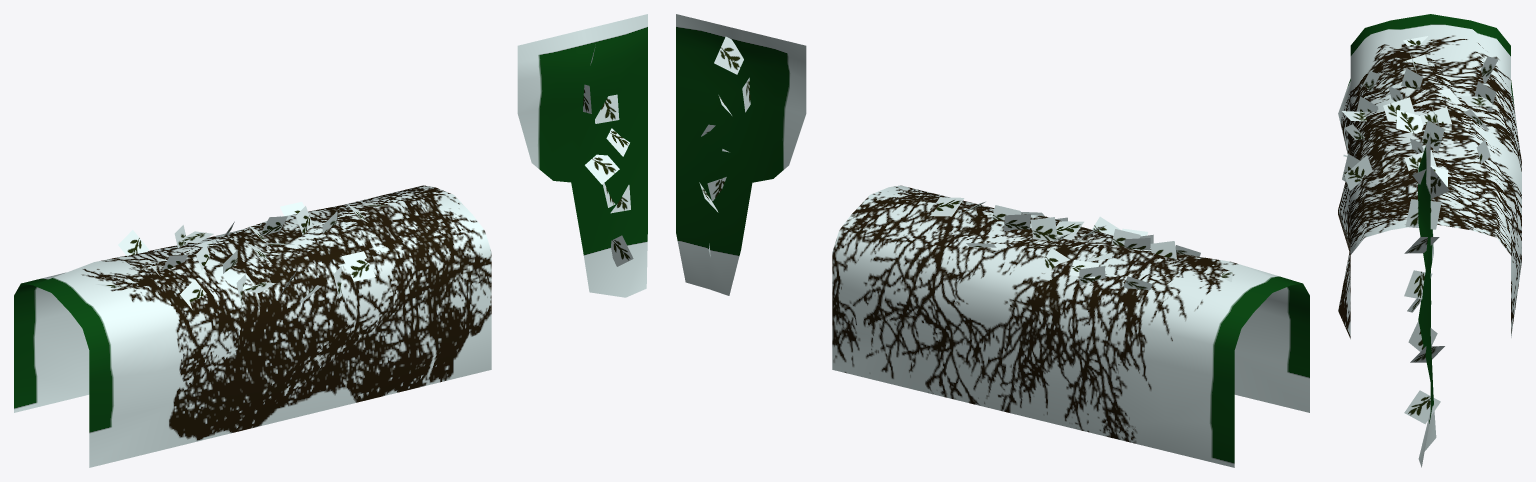
Rendered from Foliage2.fbx.
3 renders of one model, left to right at view 1: azimuth 30°, elevation 25°; view 2: azimuth 150°, elevation 25°; view 3: azimuth 270°, elevation 25°, orthographic. The views are drawn at different scales.
Parts seen in each view (by area): view 1: Vine_05, Vine_04; view 2: Vine_05, Vine_04; view 3: Vine_05, Vine_04.
Part boxes in pixels (bbox=[...]): Vine_05: bbox=[14, 185, 491, 467]; Vine_04: bbox=[517, 14, 647, 297]; Vine_05: bbox=[832, 185, 1309, 467]; Vine_04: bbox=[676, 14, 806, 295]; Vine_05: bbox=[1338, 14, 1521, 338]; Vine_04: bbox=[1404, 132, 1449, 467].
Size of the model in its own units: 917 by 413 by 229.
